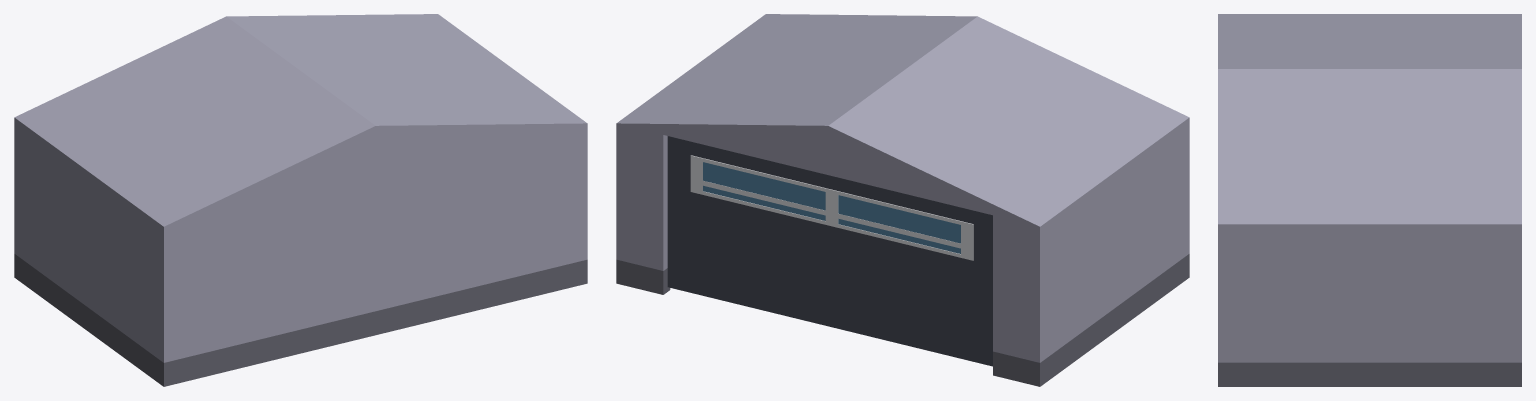
The model's file is hanger.fbx.
3 renders of one model, left to right at view 1: azimuth 30°, elevation 25°; view 2: azimuth 150°, elevation 25°; view 3: azimuth 270°, elevation 25°, orthographic.
Parts seen in each view (by area): view 1: block_half_5, slope_default_8, slope_default_7, block_half_2, block_half_4; view 2: slope_default_8, block_default_11, slope_default_7, block_half_2, window_width_12, block_half_4, block_half_3, block_half_5; view 3: slope_default_7, block_half_0, slope_default_8, block_half_3, block_half_5.
Part boxes in pixels (x1=…): block_half_5: x1=157, y1=123, x2=587, y2=386; slope_default_8: x1=14, y1=16, x2=375, y2=226; slope_default_7: x1=226, y1=14, x2=587, y2=174; block_half_2: x1=21, y1=122, x2=156, y2=381; block_half_4: x1=14, y1=117, x2=20, y2=281; slope_default_8: x1=828, y1=16, x2=1189, y2=226; block_default_11: x1=667, y1=136, x2=992, y2=366; slope_default_7: x1=616, y1=14, x2=977, y2=174; block_half_2: x1=1047, y1=122, x2=1182, y2=381; window_width_12: x1=690, y1=155, x2=973, y2=260; block_half_4: x1=993, y1=215, x2=1046, y2=386; block_half_3: x1=616, y1=123, x2=670, y2=294; block_half_5: x1=1183, y1=117, x2=1189, y2=281; slope_default_7: x1=1218, y1=69, x2=1521, y2=224; block_half_0: x1=1231, y1=224, x2=1508, y2=386; slope_default_8: x1=1218, y1=14, x2=1521, y2=68; block_half_3: x1=1508, y1=224, x2=1521, y2=386; block_half_5: x1=1218, y1=224, x2=1231, y2=386.
Bounding box in the file's own units: 180 × 85 × 110.
